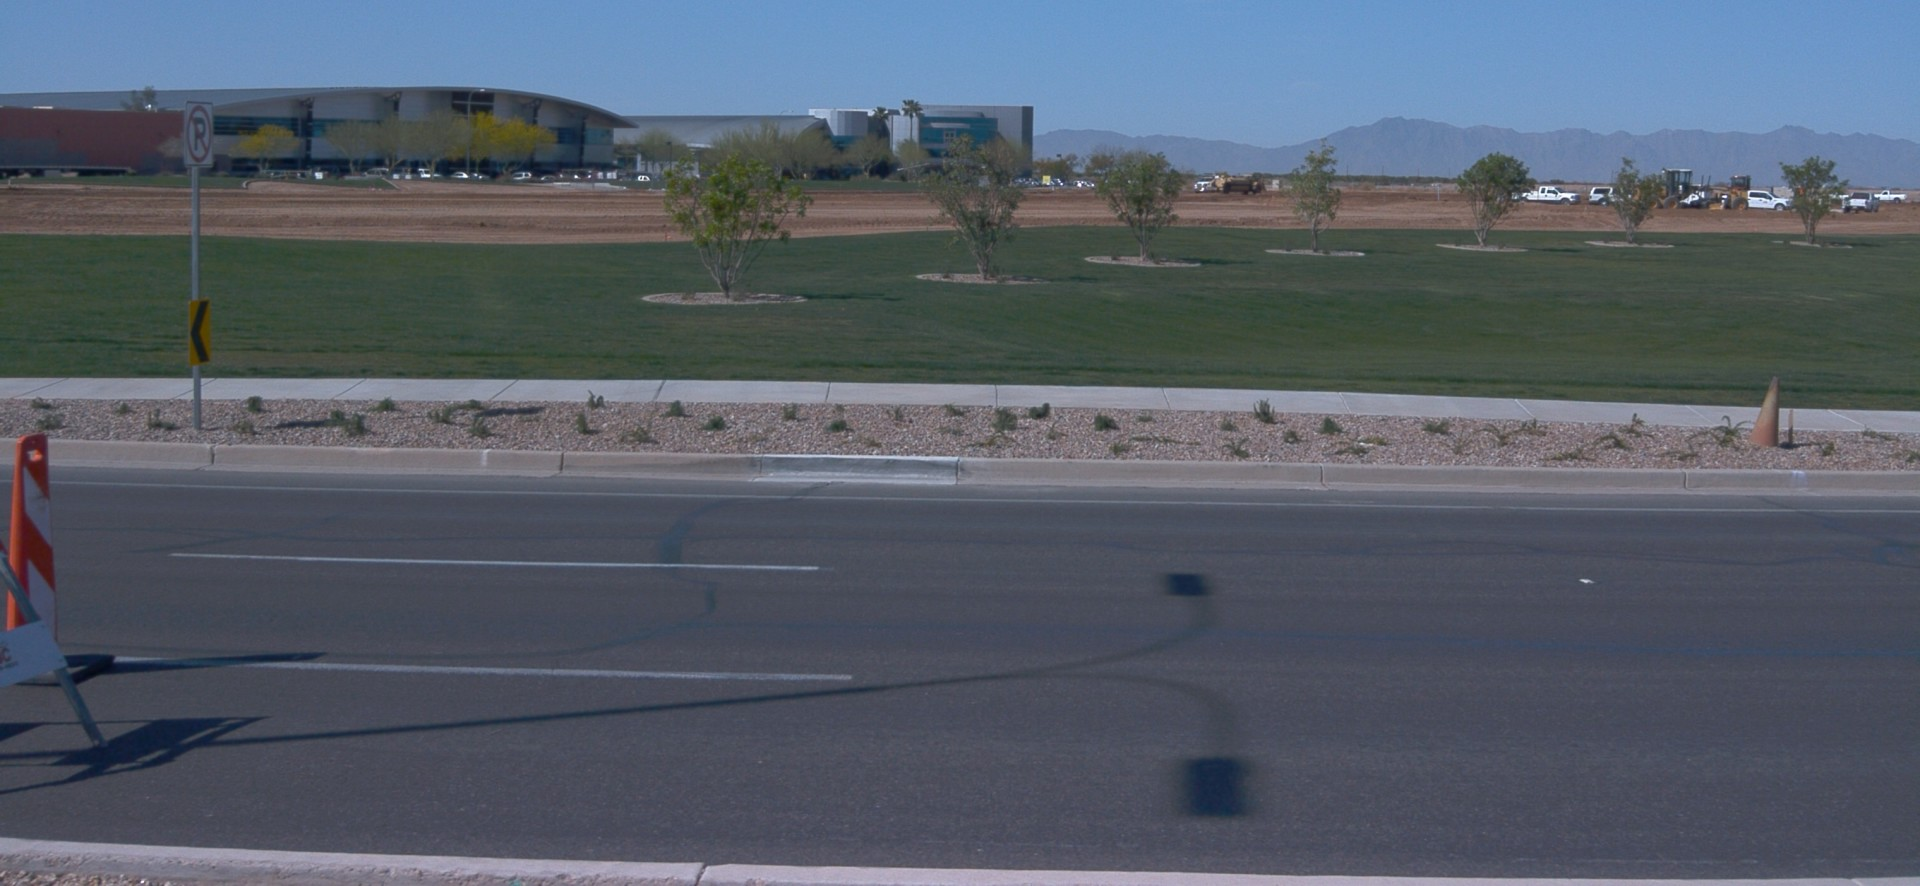TYPE_VEHICLE: (1629, 166, 1753, 213), (1629, 166, 1753, 213), (1629, 166, 1753, 213), (1629, 166, 1753, 213), (0, 160, 132, 181), (0, 160, 132, 181), (0, 160, 132, 181), (0, 160, 132, 181), (1510, 185, 1583, 206), (1510, 185, 1583, 206), (1510, 185, 1583, 206), (1510, 185, 1583, 206), (1746, 187, 1795, 212), (1746, 187, 1795, 212), (1746, 187, 1795, 212), (1746, 187, 1795, 212), (1210, 173, 1264, 193), (1210, 173, 1264, 193), (1210, 173, 1264, 193), (1210, 173, 1264, 193), (1588, 186, 1635, 207), (1588, 186, 1635, 207), (1588, 186, 1635, 207), (1588, 186, 1635, 207), (1839, 190, 1881, 210), (1839, 190, 1881, 210), (1839, 190, 1881, 210), (1839, 190, 1881, 210), (1680, 184, 1708, 206), (1680, 184, 1708, 206), (1680, 184, 1708, 206), (1680, 184, 1708, 206), (1875, 190, 1910, 204), (1875, 190, 1910, 204), (1875, 190, 1910, 204), (1875, 190, 1910, 204), (1193, 175, 1216, 193), (1728, 176, 1751, 195), (1193, 175, 1216, 193), (1728, 176, 1751, 195), (1193, 175, 1216, 193), (1728, 176, 1751, 195), (1193, 175, 1216, 193), (1728, 176, 1751, 195), (364, 169, 398, 179), (364, 169, 398, 179), (364, 169, 398, 179), (364, 169, 398, 179), (366, 169, 393, 180), (366, 169, 393, 180), (366, 169, 393, 180), (366, 169, 393, 180), (418, 169, 441, 180), (418, 169, 441, 180), (418, 169, 441, 180), (418, 169, 441, 180), (1826, 192, 1849, 202), (1826, 192, 1849, 202), (1826, 192, 1849, 202), (1826, 192, 1849, 202), (512, 171, 534, 181), (512, 171, 534, 181), (512, 171, 534, 181), (512, 171, 534, 181), (451, 173, 469, 179), (451, 173, 469, 179), (451, 173, 469, 179), (451, 173, 469, 179), (638, 175, 648, 181), (638, 175, 648, 181), (638, 175, 648, 181), (638, 175, 648, 181)
